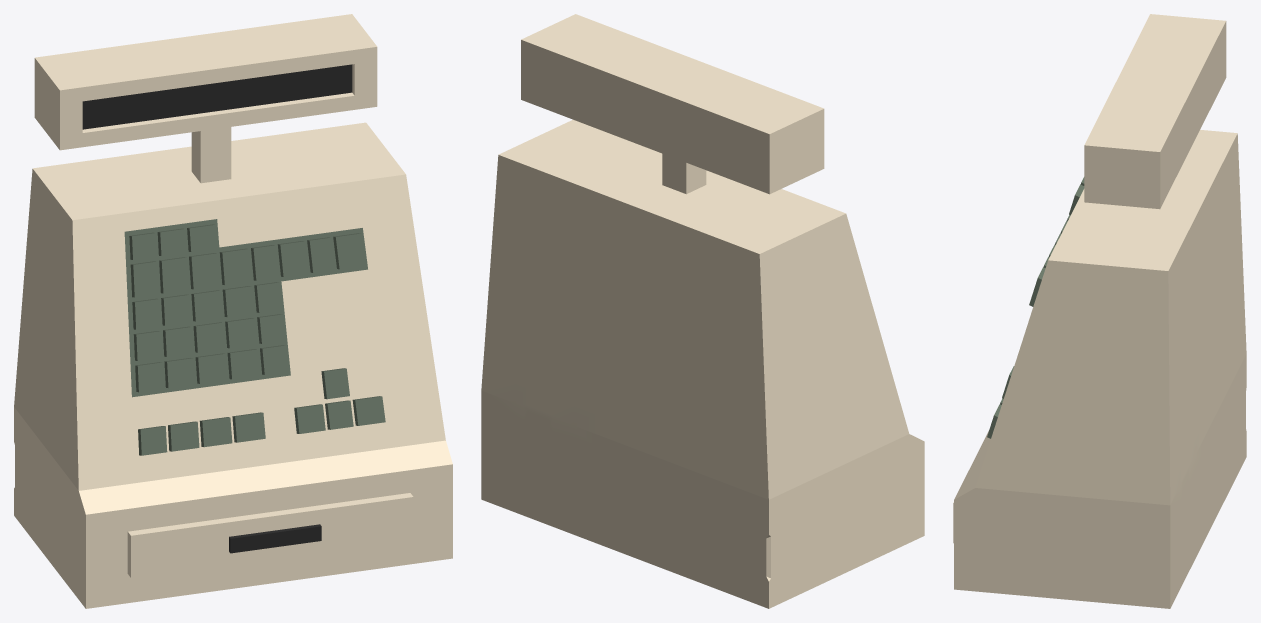
File: cash.fbx
3 renders of one model, left to right at view 1: azimuth 30°, elevation 25°; view 2: azimuth 150°, elevation 25°; view 3: azimuth 270°, elevation 25°, orthographic. The views are drawn at different scales.
Parts seen in each view (by area): view 1: pCube14; view 2: pCube14; view 3: pCube14.
Part boxes in pixels (bbox=[...]): pCube14: bbox=[14, 14, 452, 608]; pCube14: bbox=[481, 14, 924, 608]; pCube14: bbox=[953, 14, 1246, 608].
Size of the model in its own units: 2.43 by 2.91 by 1.76.
